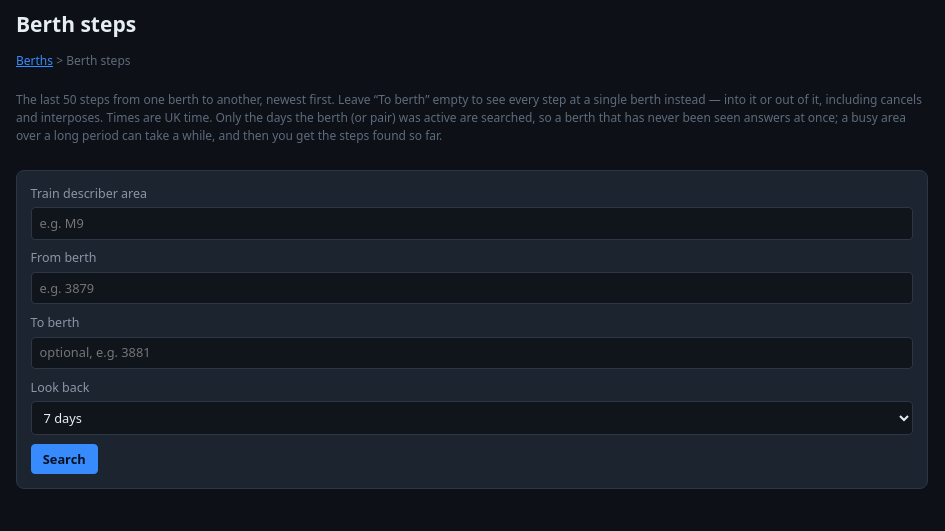
Test: BerthStepsPage (owner request 2026-09-22) › passes the chosen look-back, and shows the API's too-slow message
The width and height of the screenshot is (945, 531).
Step 1. Select "90 days" in the dropdown labelled "Look back" → (472, 418), box x1=31 y1=402 x2=913 y2=435
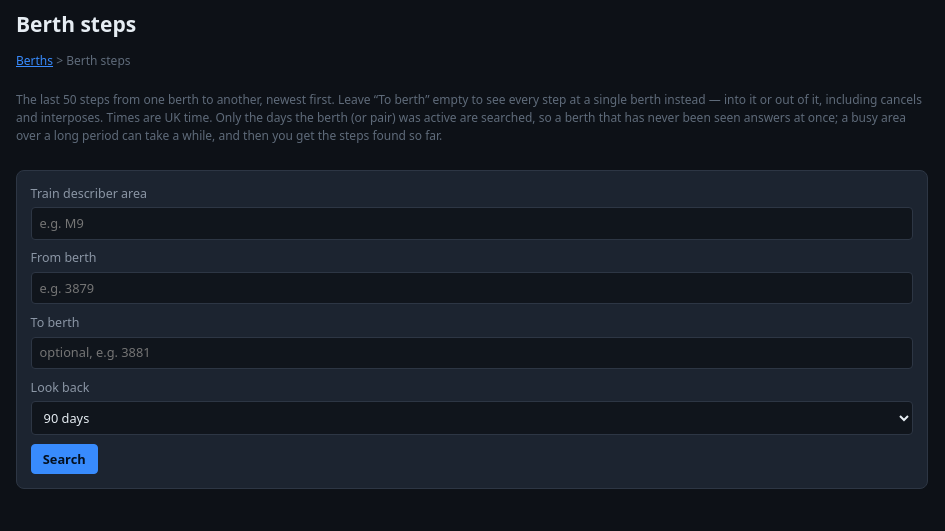
Step 2. Type "M9" into the field labelled "Train describer area" → (472, 224), box x1=31 y1=207 x2=913 y2=240
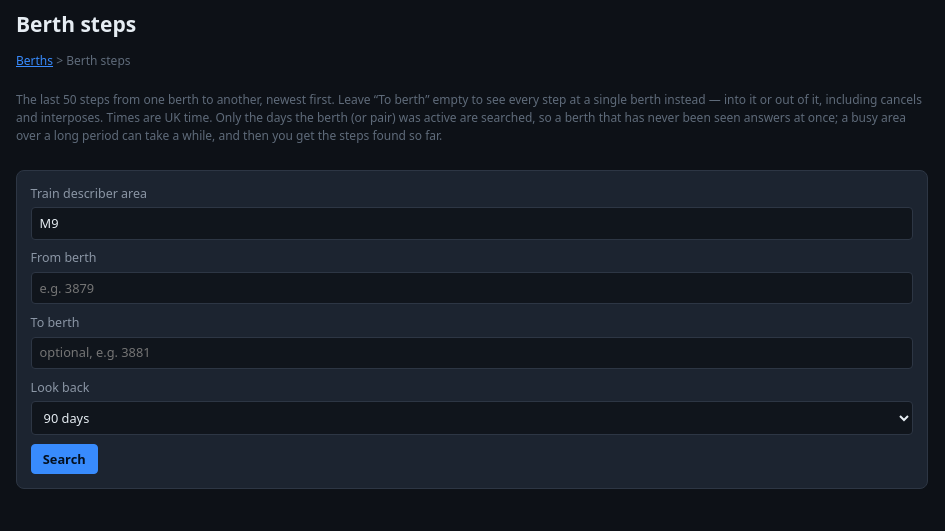
Step 3. Type "3894" into the field labelled "From berth" → (472, 288), box x1=31 y1=272 x2=913 y2=304
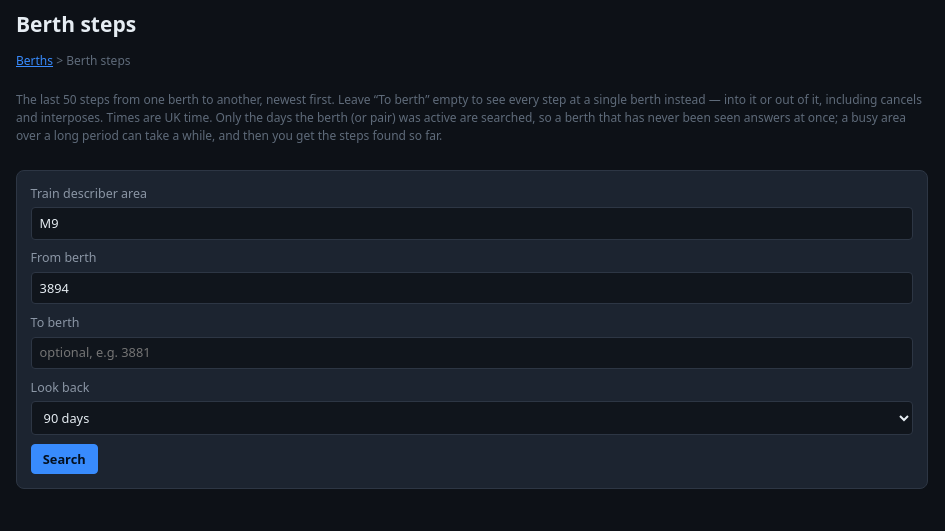
Step 4. Type "9878" into the field labelled "To berth" → (472, 353), box x1=31 y1=337 x2=913 y2=369
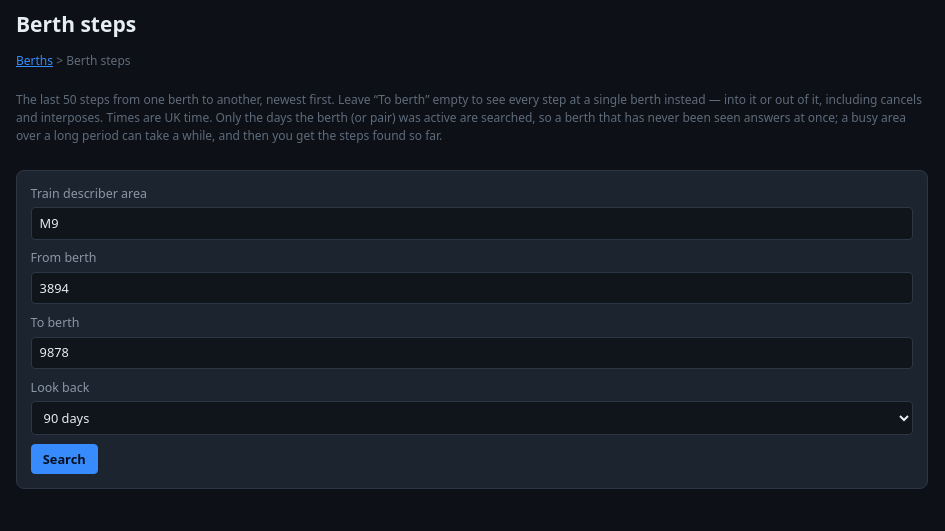
Step 5. Click the button "Search" → (64, 459), box x1=31 y1=444 x2=98 y2=474
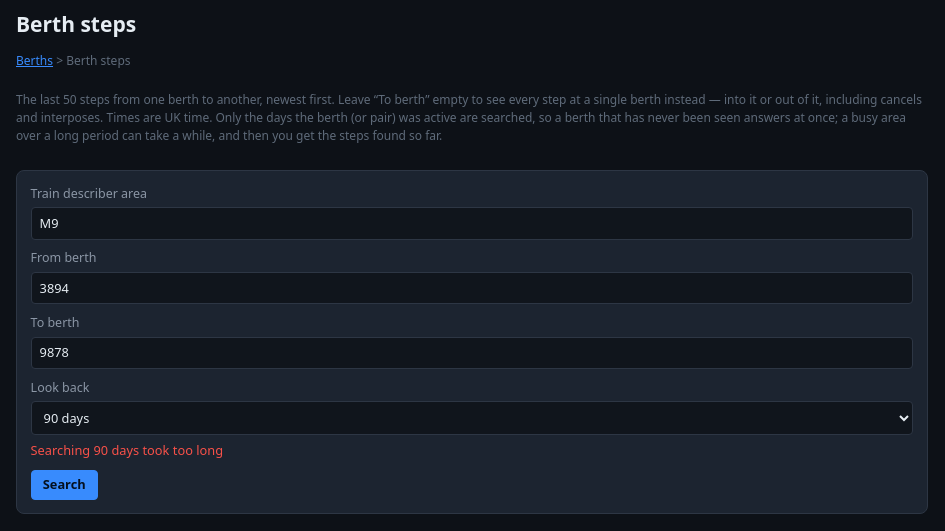
Expected: the message shows "took too long", x1=31 y1=441 x2=223 y2=459
